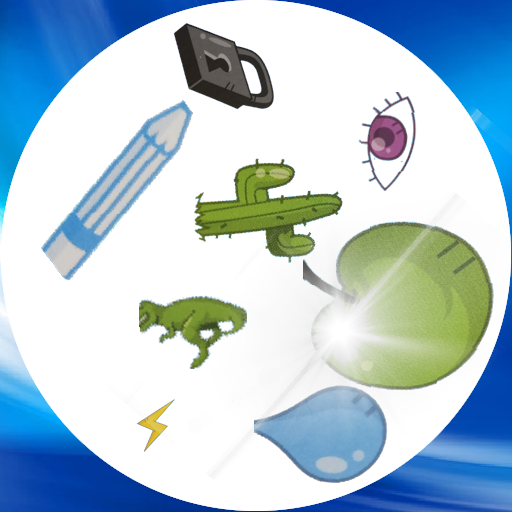apple_icon: (303, 216, 504, 417)
cactus_icon: (186, 129, 344, 287)
dino_icon: (139, 261, 247, 369)
eye_icon: (341, 92, 440, 191)
lightning_icon: (129, 395, 186, 452)
lock_icon: (167, 10, 279, 122)
pen_icon: (20, 85, 223, 288)
raindrop_icon: (254, 363, 390, 499)
